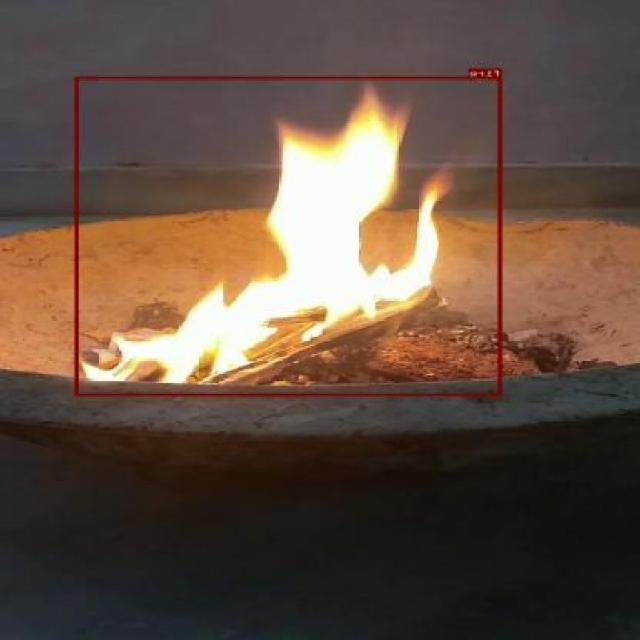Fire: (75, 76, 503, 395)
